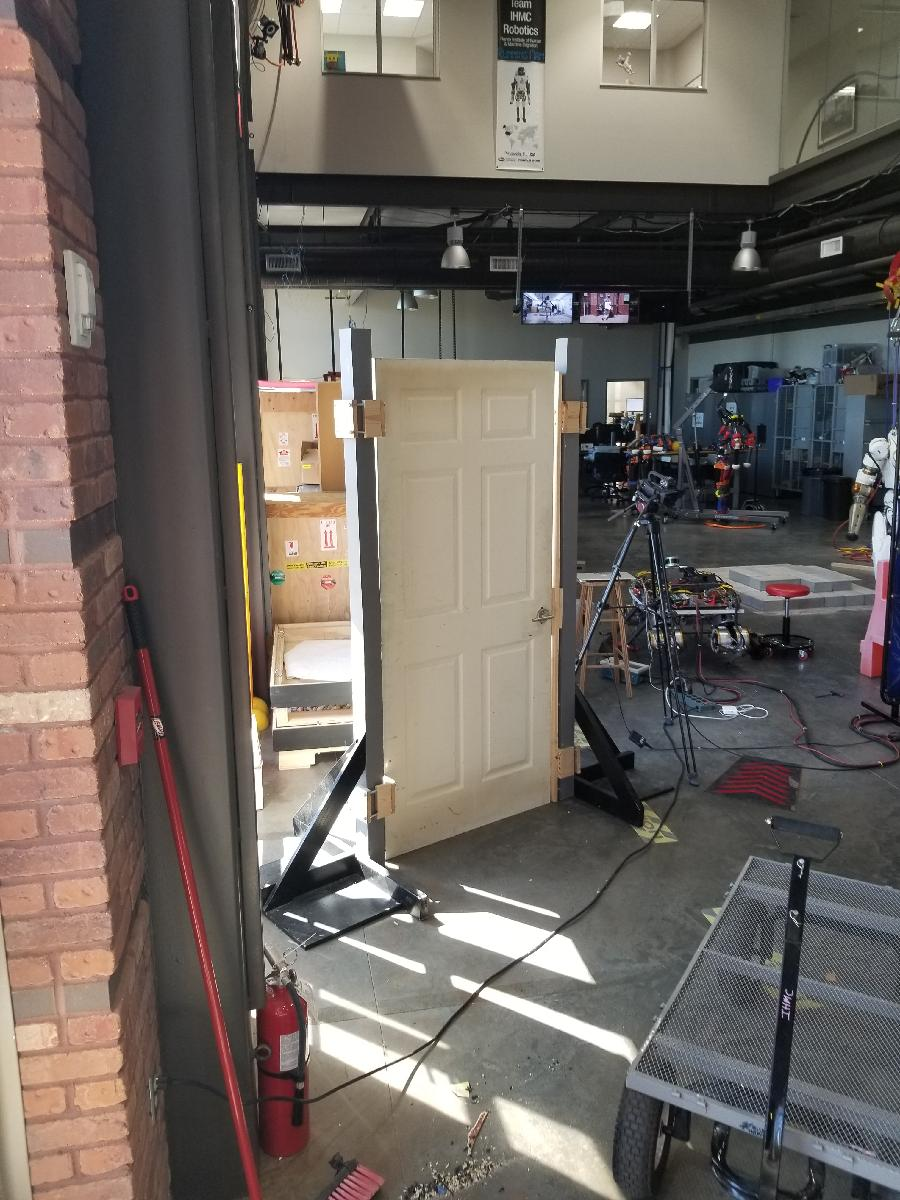door: (367, 352, 561, 866)
doorHandle: (532, 606, 558, 629)
